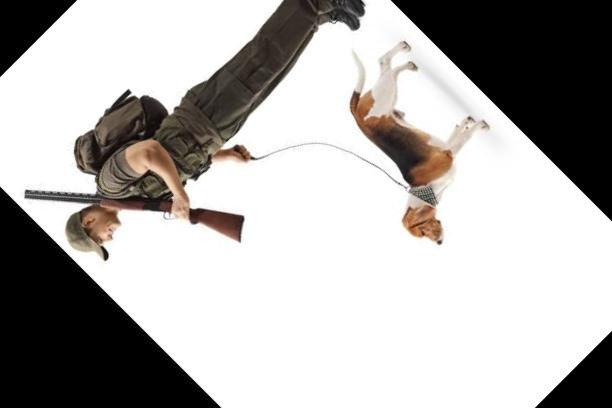larga: (23, 188, 245, 245)
